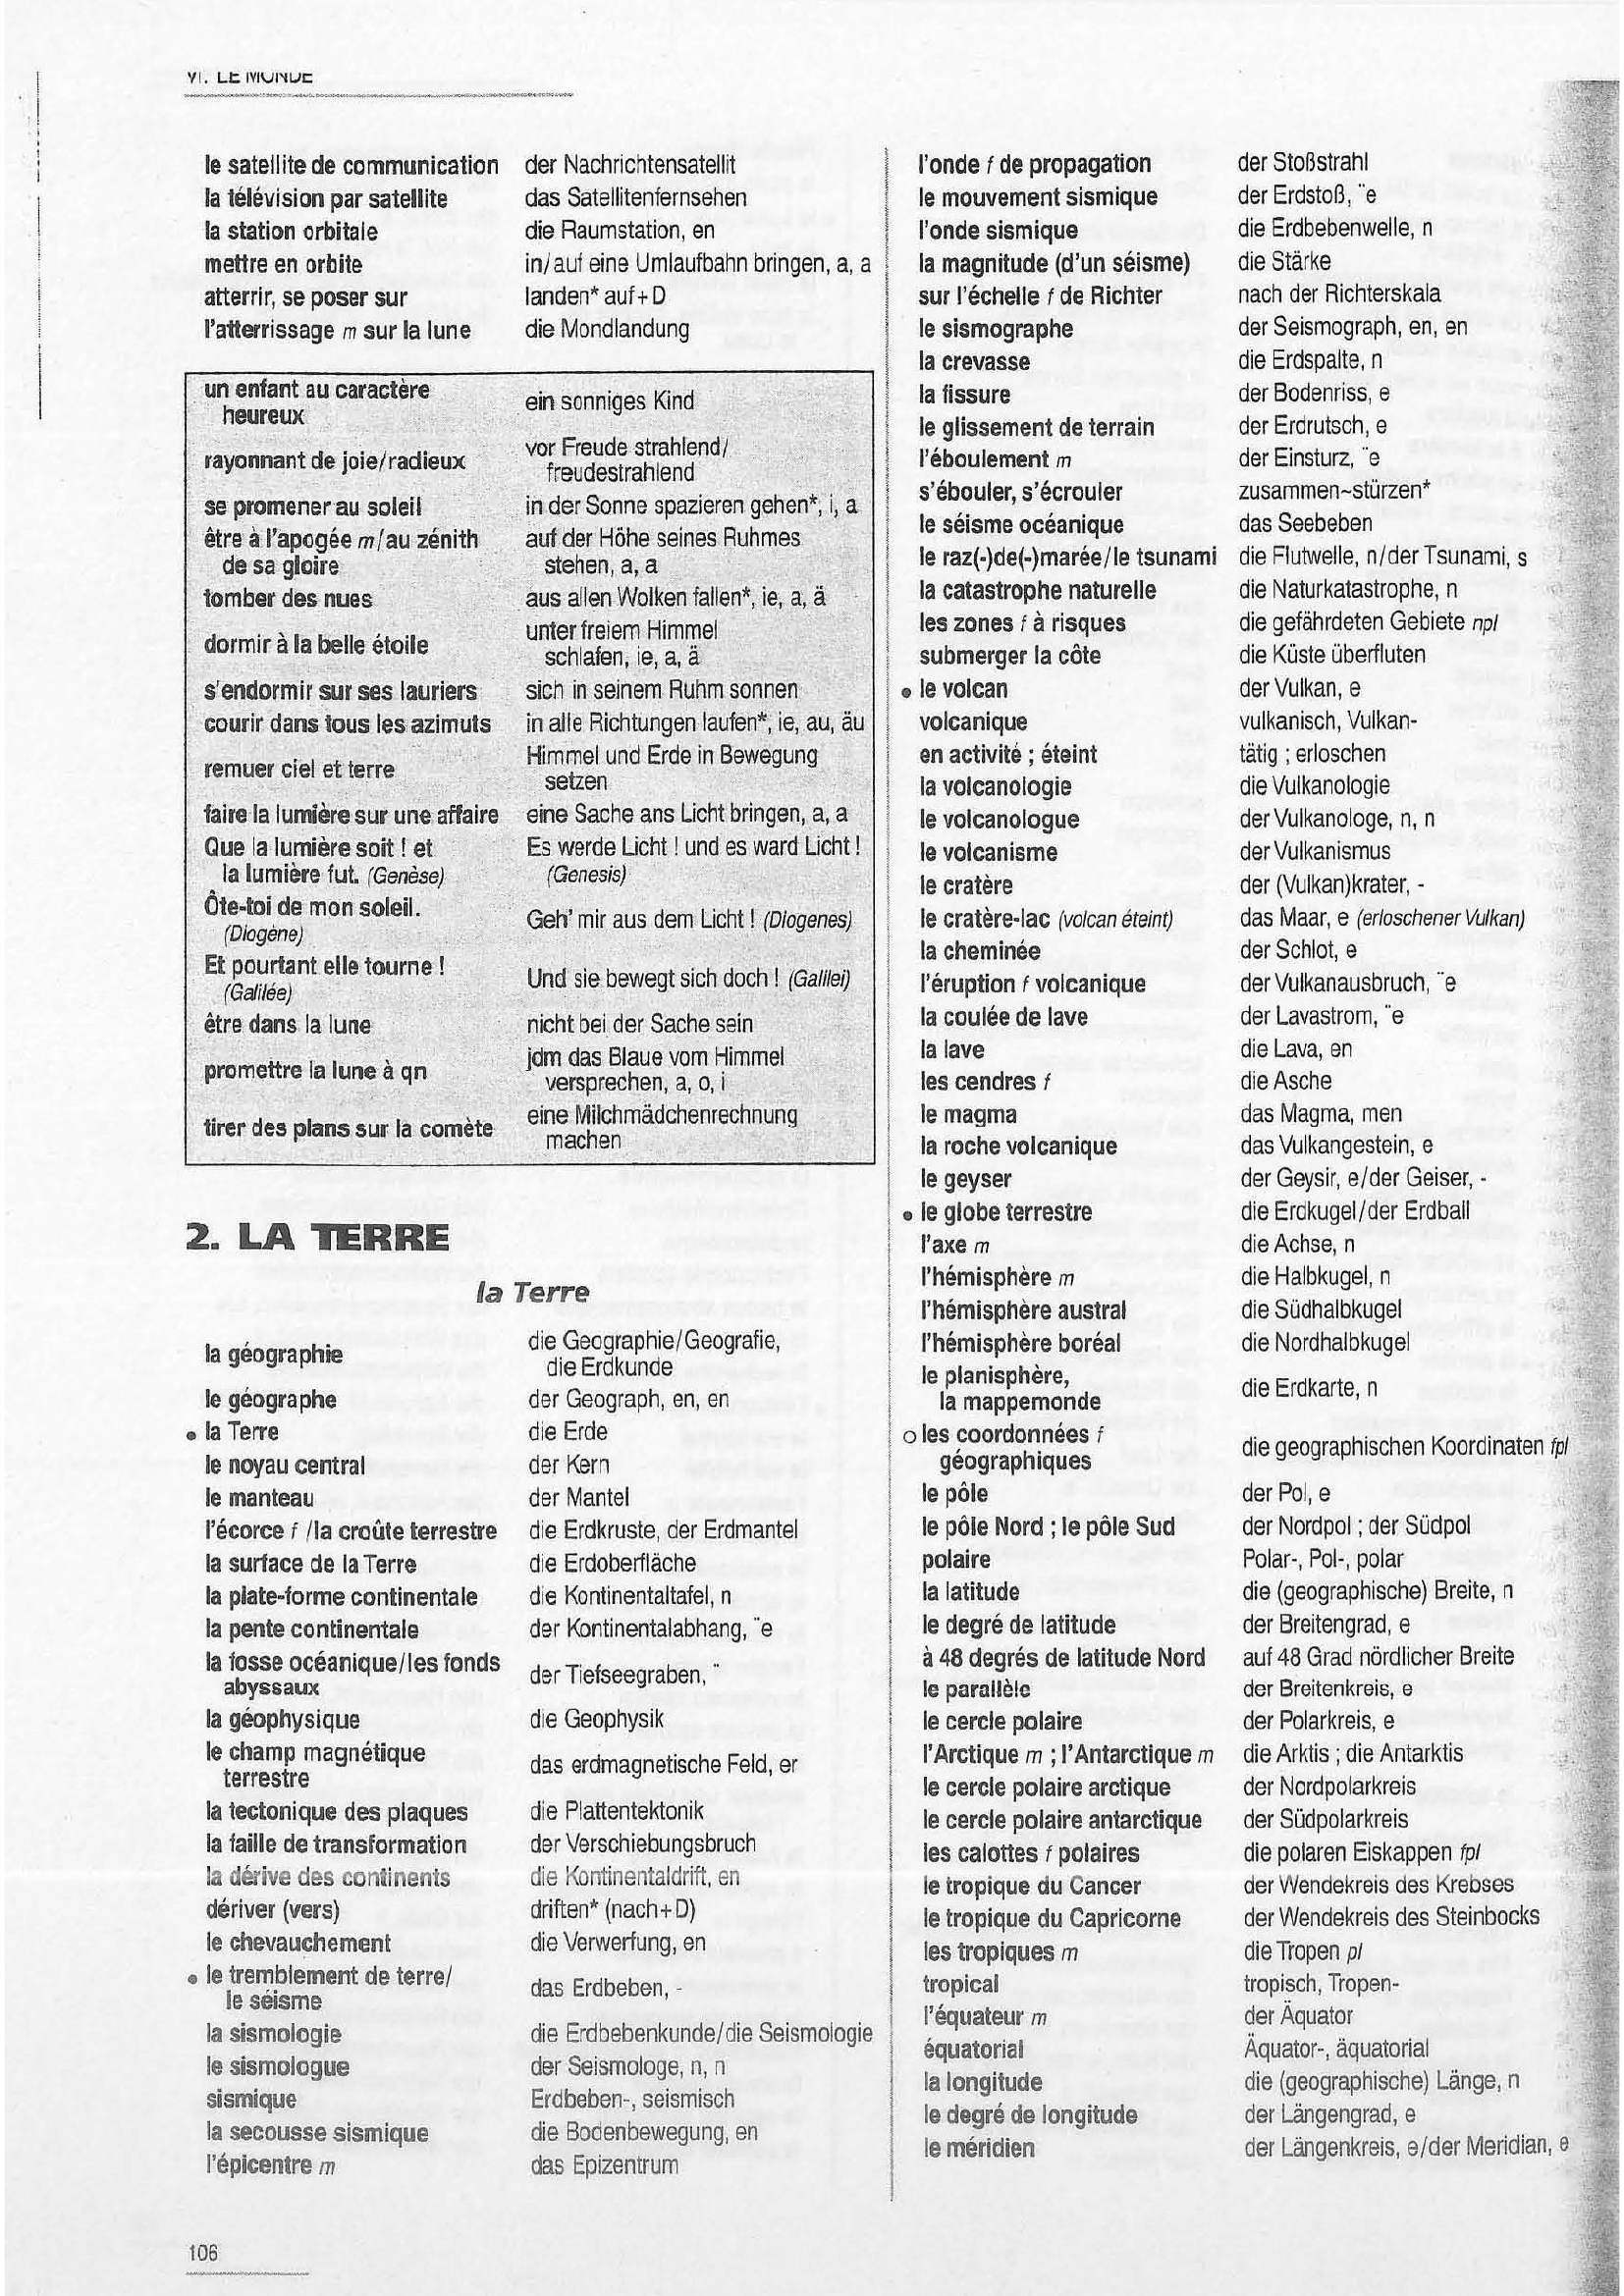French_voc: (898, 148, 1207, 2222), (179, 1310, 492, 2203), (185, 111, 499, 364)
German_voc: (1225, 135, 1606, 2215), (511, 1310, 898, 2210), (504, 123, 893, 364)
